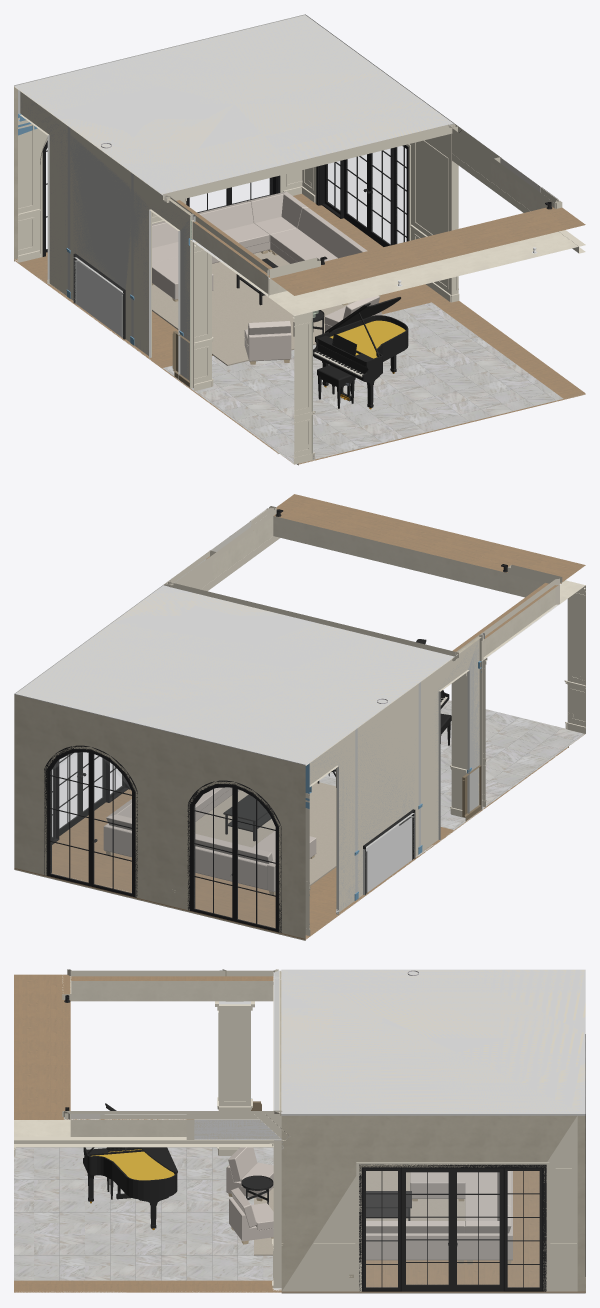
File: family-room-fe02d28fe27e.glb
The picture shows the model from 3 angles, top to bottom: view 1: azimuth 30°, elevation 25°; view 2: azimuth 150°, elevation 25°; view 3: azimuth 270°, elevation 25°; orthographic projection.
Visible parts, largest first — view 1: family-room-4a969f5cc1ae3dfe, family-room-ba376bd68a22f7f3, family-room-50d54560d247b537, family-room-2575515a05775d9e, family-room-55ff1dfd7b659ec1, family-room-9d80b152e3f2ea10, family-room-3b0077416469e01b, family-room-3d5fbc3a2a5f9c05, family-room-88f8978e186bf417, family-room-1a893a20b01c9fd3, family-room-969b861f9850351e, family-room-e706aa16b4547c37 (+19 smaller); view 2: family-room-4a969f5cc1ae3dfe, family-room-969b861f9850351e, family-room-9d80b152e3f2ea10, family-room-2575515a05775d9e, family-room-316290d012168088, family-room-b57b1dfcc6ff1bca, family-room-50d54560d247b537, family-room-3b0077416469e01b, family-room-55ff1dfd7b659ec1, family-room-ba376bd68a22f7f3, family-room-88f8978e186bf417, family-room-3d5fbc3a2a5f9c05 (+13 smaller); view 3: family-room-4a969f5cc1ae3dfe, family-room-e706aa16b4547c37, family-room-ba376bd68a22f7f3, family-room-3d5fbc3a2a5f9c05, family-room-50d54560d247b537, family-room-2575515a05775d9e, family-room-3b0077416469e01b, family-room-0bd714ee3619f5b4, family-room-1a893a20b01c9fd3, family-room-d20359ea22d8532c, family-room-65a368b7809647e4, family-room-a8ea7d4d2b17a47a (+20 smaller).
Part boxes in pixels (x1=…): family-room-4a969f5cc1ae3dfe: x1=14, y1=15, x2=453, y2=195; family-room-ba376bd68a22f7f3: x1=163, y1=302, x2=563, y2=463; family-room-50d54560d247b537: x1=14, y1=14, x2=454, y2=194; family-room-2575515a05775d9e: x1=191, y1=162, x2=585, y2=315; family-room-55ff1dfd7b659ec1: x1=18, y1=89, x2=189, y2=380; family-room-9d80b152e3f2ea10: x1=20, y1=91, x2=190, y2=379; family-room-3b0077416469e01b: x1=14, y1=194, x2=585, y2=464; family-room-3d5fbc3a2a5f9c05: x1=316, y1=145, x2=408, y2=246; family-room-88f8978e186bf417: x1=152, y1=251, x2=384, y2=365; family-room-1a893a20b01c9fd3: x1=313, y1=297, x2=408, y2=409; family-room-969b861f9850351e: x1=14, y1=86, x2=302, y2=262; family-room-e706aa16b4547c37: x1=302, y1=134, x2=447, y2=291; family-room-4a969f5cc1ae3dfe: x1=14, y1=585, x2=454, y2=765; family-room-969b861f9850351e: x1=14, y1=695, x2=309, y2=938; family-room-9d80b152e3f2ea10: x1=309, y1=639, x2=479, y2=911; family-room-2575515a05775d9e: x1=206, y1=494, x2=585, y2=660; family-room-316290d012168088: x1=187, y1=780, x2=281, y2=932; family-room-b57b1dfcc6ff1bca: x1=44, y1=745, x2=137, y2=897; family-room-50d54560d247b537: x1=14, y1=584, x2=450, y2=765; family-room-3b0077416469e01b: x1=14, y1=746, x2=568, y2=939; family-room-55ff1dfd7b659ec1: x1=309, y1=637, x2=481, y2=913; family-room-ba376bd68a22f7f3: x1=319, y1=700, x2=584, y2=829; family-room-88f8978e186bf417: x1=195, y1=782, x2=336, y2=885; family-room-3d5fbc3a2a5f9c05: x1=52, y1=752, x2=130, y2=844; family-room-4a969f5cc1ae3dfe: x1=281, y1=969, x2=585, y2=1115; family-room-e706aa16b4547c37: x1=281, y1=1115, x2=577, y2=1291; family-room-ba376bd68a22f7f3: x1=14, y1=1147, x2=273, y2=1280; family-room-3d5fbc3a2a5f9c05: x1=359, y1=1164, x2=546, y2=1291; family-room-50d54560d247b537: x1=281, y1=969, x2=585, y2=1114; family-room-2575515a05775d9e: x1=14, y1=974, x2=193, y2=1136; family-room-3b0077416469e01b: x1=14, y1=1171, x2=585, y2=1292; family-room-0bd714ee3619f5b4: x1=70, y1=976, x2=273, y2=1001; family-room-1a893a20b01c9fd3: x1=83, y1=1103, x2=177, y2=1229; family-room-d20359ea22d8532c: x1=366, y1=1221, x2=465, y2=1263; family-room-65a368b7809647e4: x1=219, y1=1001, x2=250, y2=1148; family-room-a8ea7d4d2b17a47a: x1=14, y1=1136, x2=273, y2=1147.
Size of the model in its own units: 6.16 by 3.56 by 10.26.
46 materials, 7 textured.
